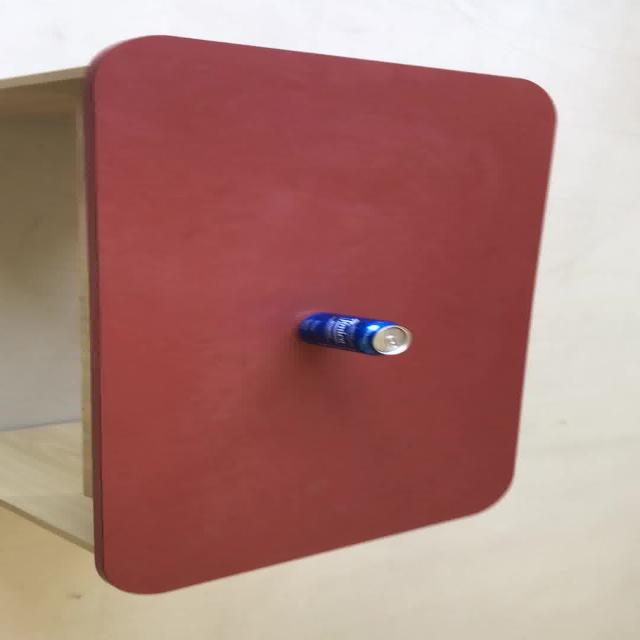tonic: (296, 310, 412, 356)
